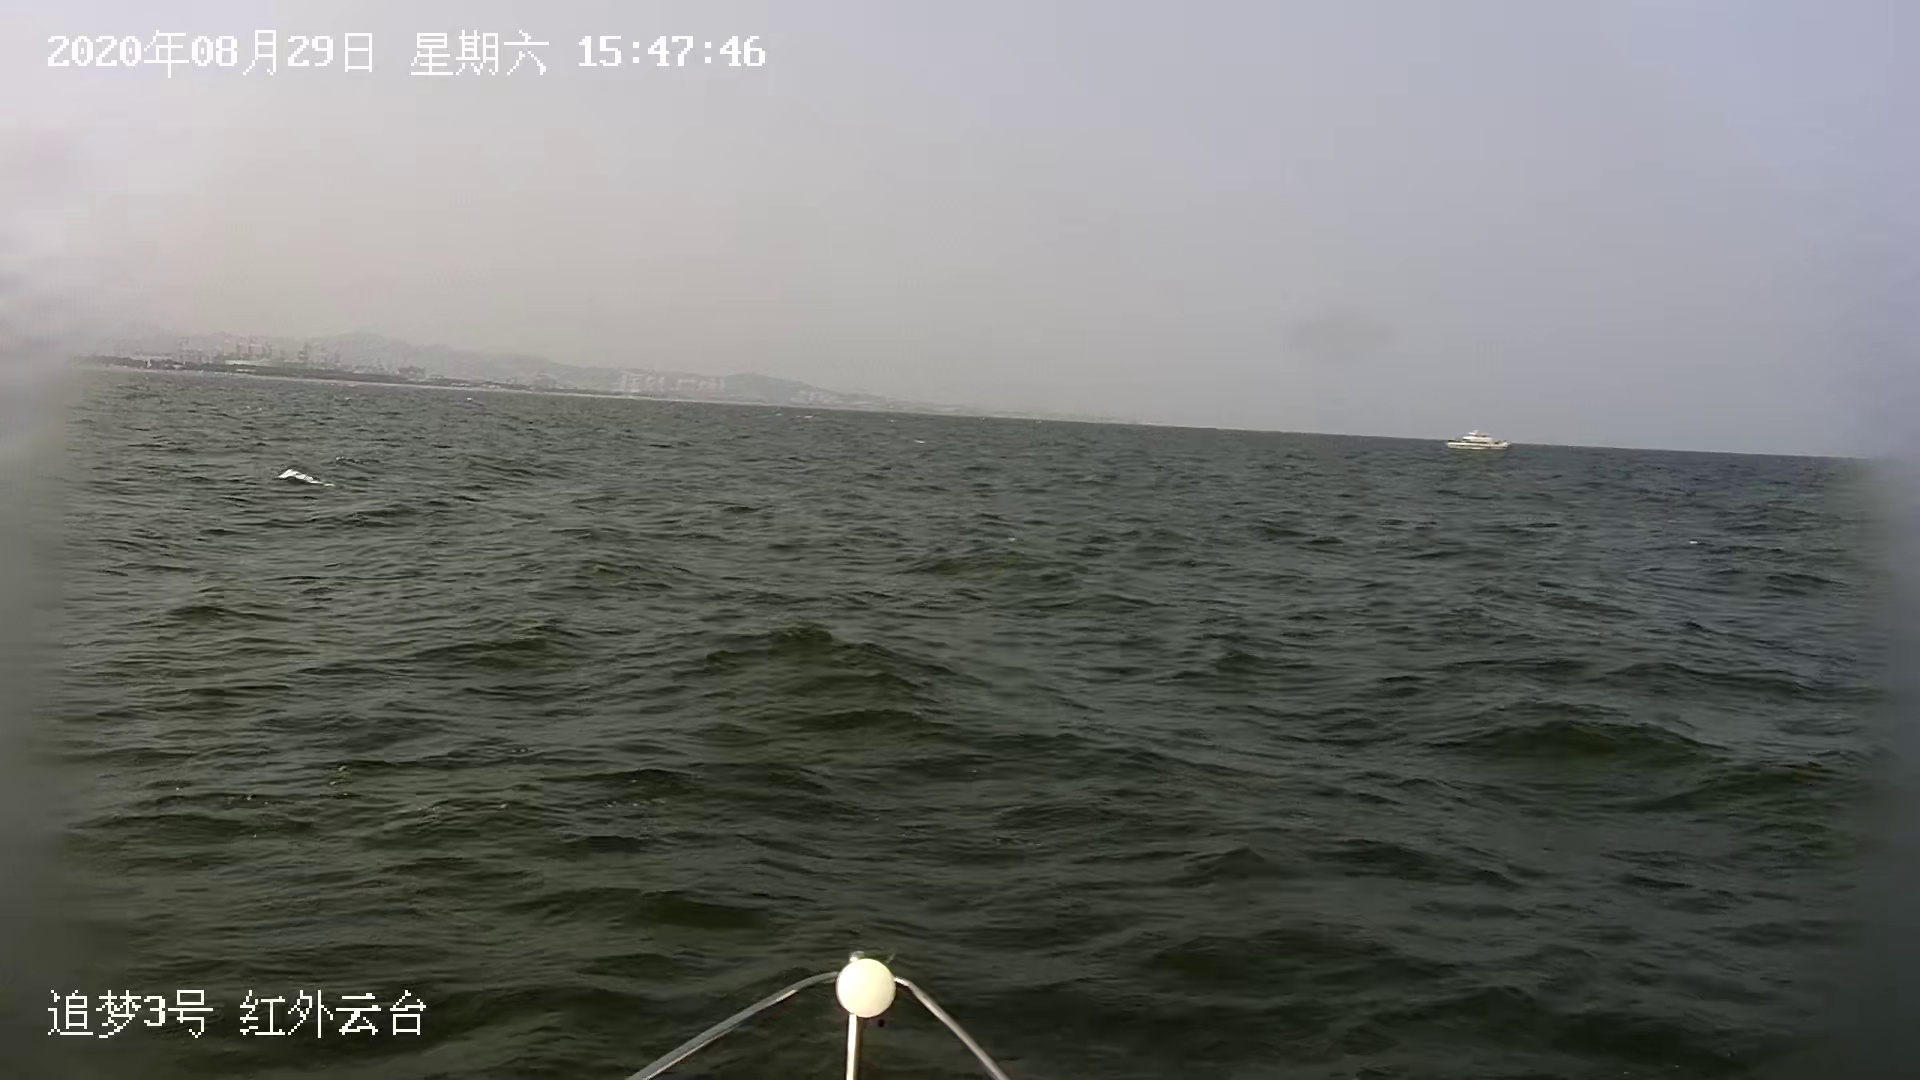barrier: (1443, 422, 1513, 455)
coast: (18, 316, 1179, 425)
